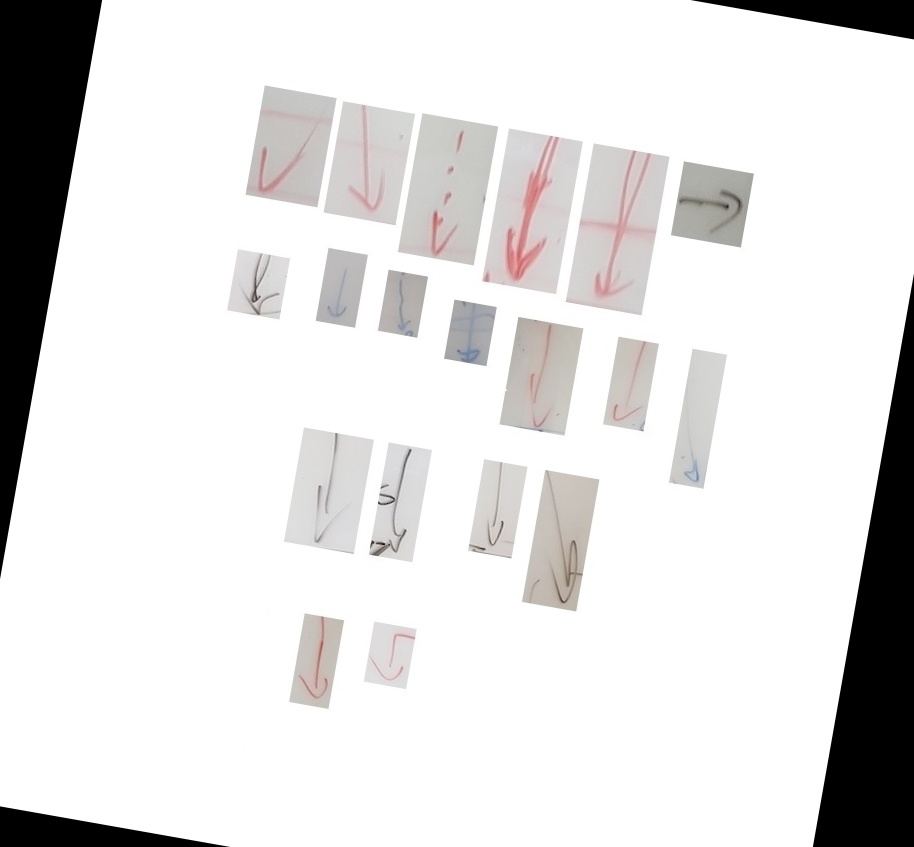arrow: (568, 226, 659, 382), (480, 240, 562, 357), (669, 215, 744, 342), (513, 568, 589, 679), (288, 514, 361, 618), (404, 230, 473, 332), (498, 406, 566, 504), (328, 194, 395, 288), (246, 193, 322, 271), (365, 530, 421, 629), (596, 415, 652, 500), (462, 543, 521, 621), (285, 699, 333, 774), (223, 330, 280, 386), (307, 331, 356, 396), (662, 489, 707, 556), (436, 381, 487, 437), (373, 348, 418, 405), (359, 710, 404, 756)
